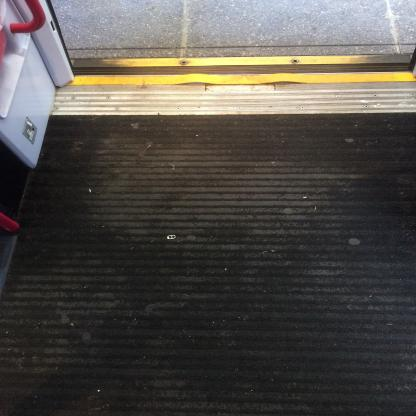trash: (166, 234, 176, 241)
